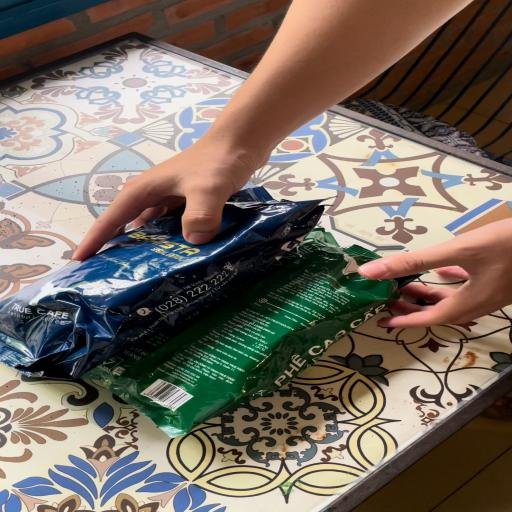cafe_hat: (0, 188, 323, 379)
cafe_xay: (111, 229, 418, 445)
